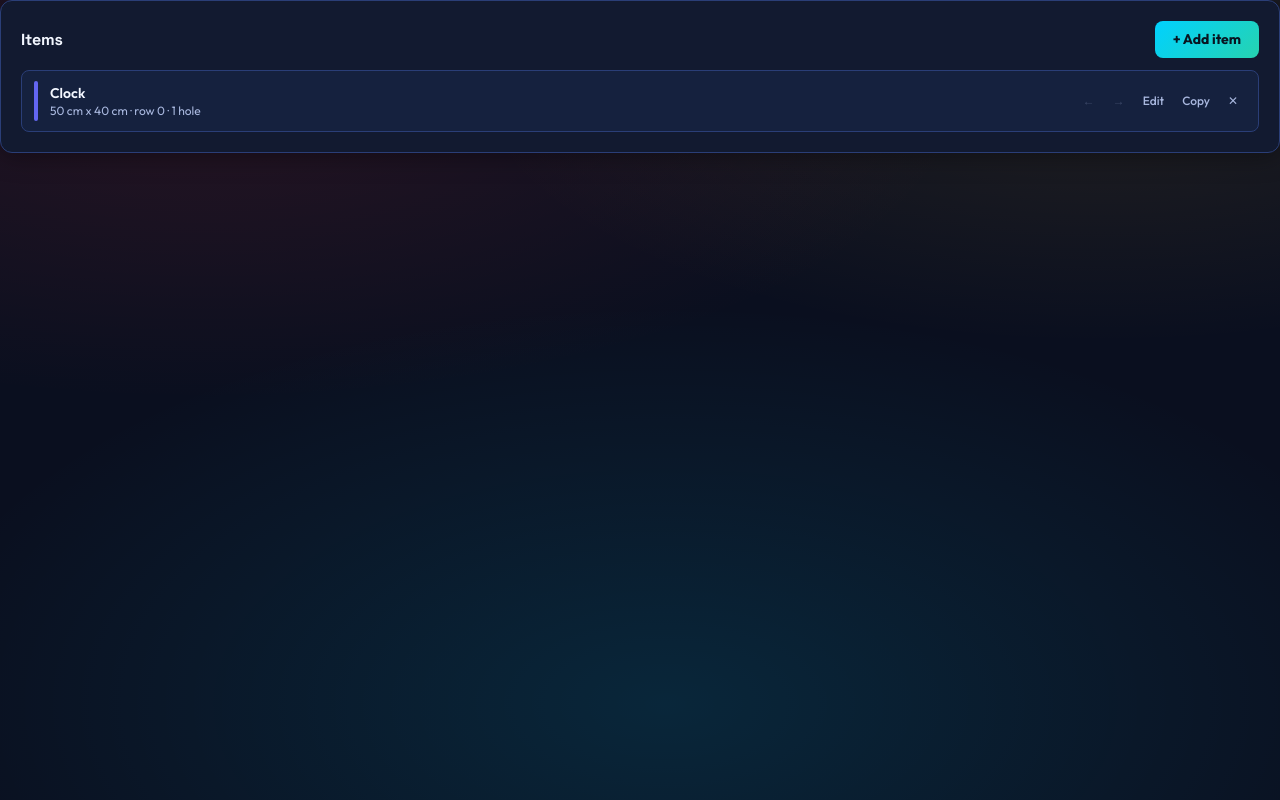
Scenario: ItemList › editing items › shows the edit form when Edit is clicked
Click the button "Edit" at (1154, 101), box [1135, 87, 1172, 115]
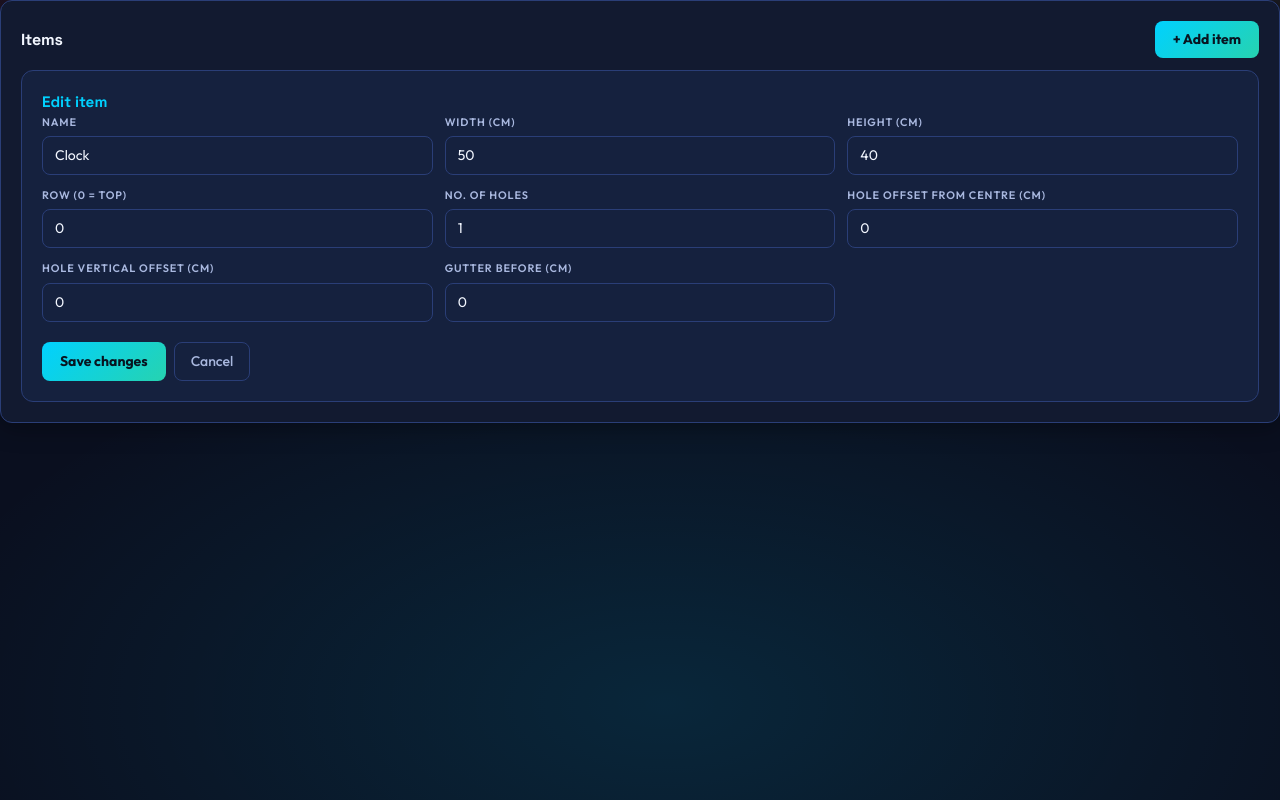
Check: the heading "Edit item" is shown, box [42, 92, 107, 111]
